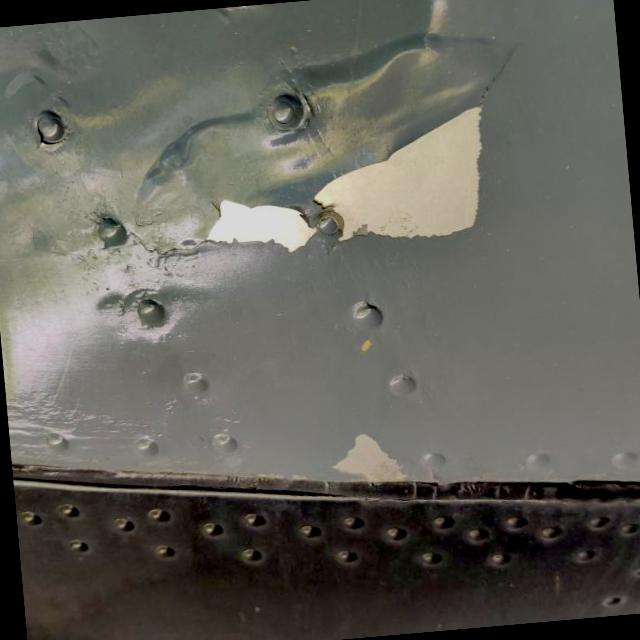paint-off: (91, 6, 567, 314), (317, 418, 426, 506)
